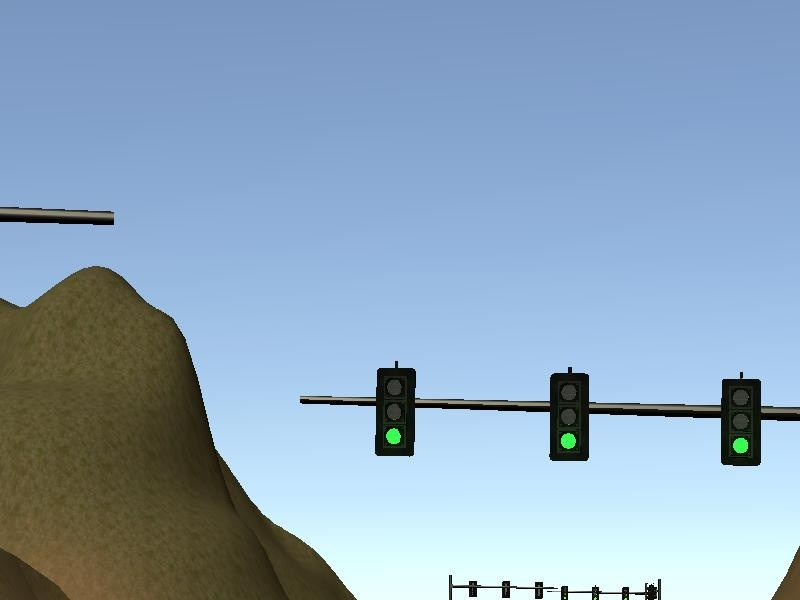green: (718, 375, 769, 475), (546, 371, 593, 468), (377, 365, 413, 458)
